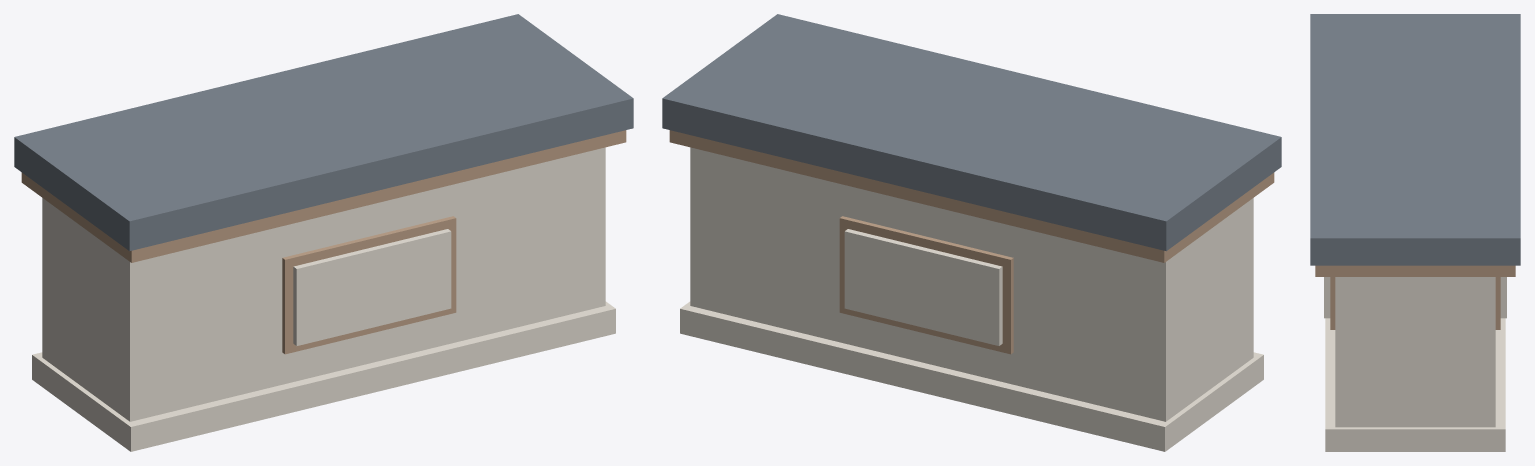
File: wall-straight.glb
3 renders of one model, left to right at view 1: azimuth 30°, elevation 25°; view 2: azimuth 150°, elevation 25°; view 3: azimuth 270°, elevation 25°, orthographic. The views are drawn at different scales.
Visible parts, largest first — view 1: wall-straight; view 2: wall-straight; view 3: wall-straight.
Part boxes in pixels (bbox=[...]): wall-straight: bbox=[14, 14, 633, 451]; wall-straight: bbox=[662, 14, 1281, 451]; wall-straight: bbox=[1310, 14, 1520, 451].
Size of the model in its own units: 2.12 by 0.96 by 0.84.
